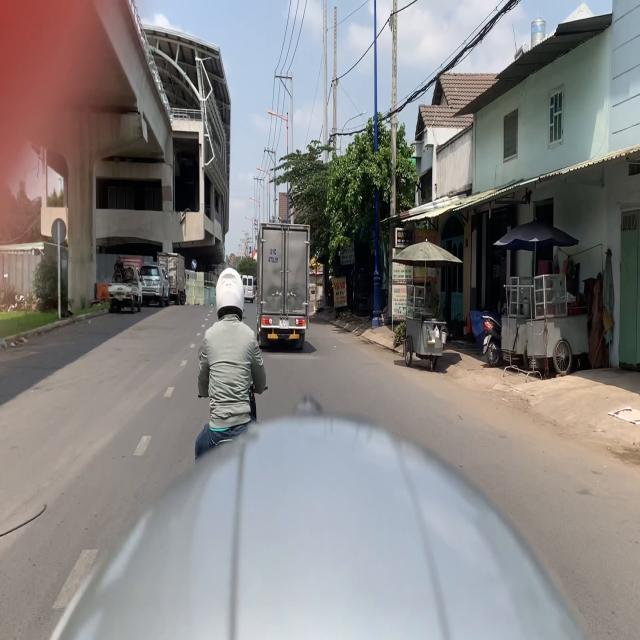Hieu lenh: (191, 258, 197, 270)
